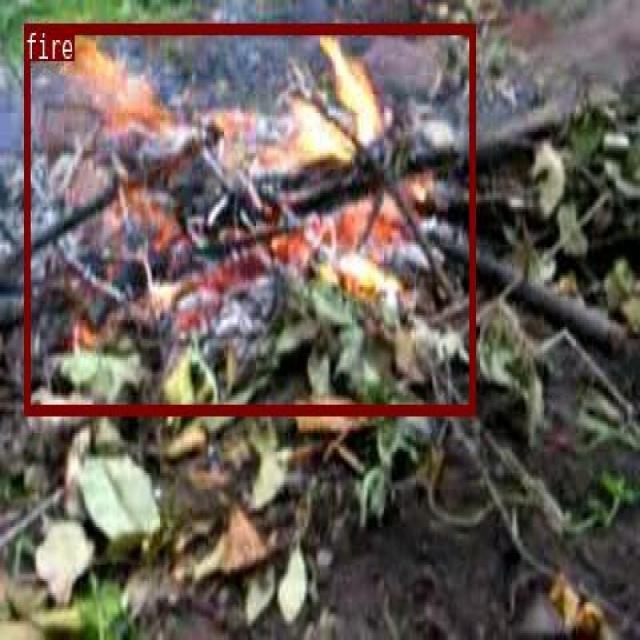fire: (23, 22, 474, 414)
